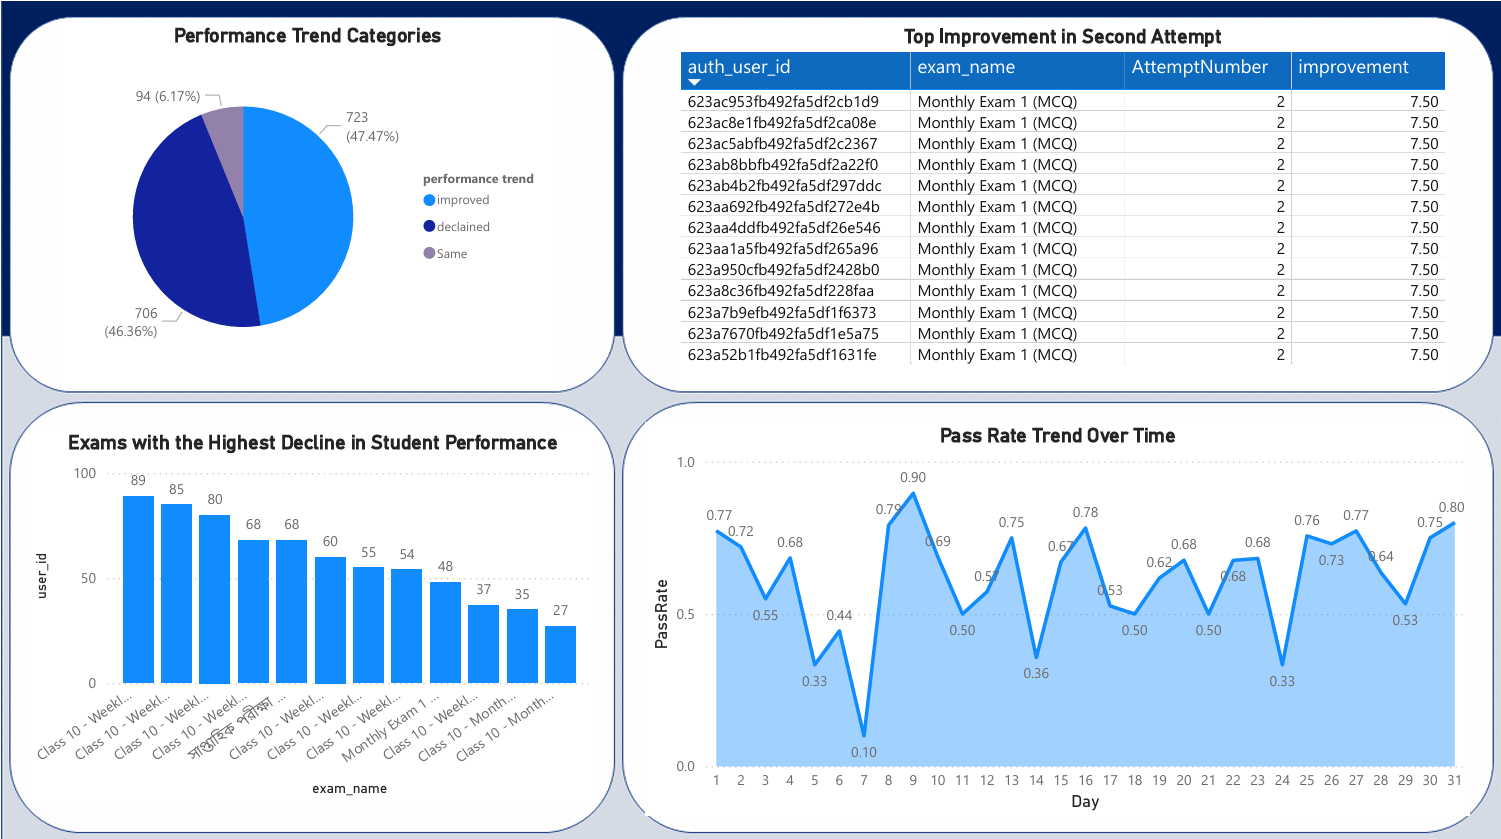

Layout of this report page (visuals, bound fields, positions):
{"tool":"powerbi","page":{"name":"Page 2","canvas":[1280,720],"ordinal":1},"visuals":[{"type":"lineChart","title":"Pass Rate Trend Over Time","fields":{"Category":["Q-2.exam_date.Variation.Date Hierarchy.Day"],"Y":["Q-2.PassRate"]},"box":[549.8,360,704,336.1],"z":0},{"type":"columnChart","title":"Exams with the Highest Decline in Student Performance","fields":{"Category":["Question-4.exam_name"],"Y":["CountNonNull(Question-4.auth_user_id)"]},"box":[23.1,366.2,485.9,316.6],"z":1000},{"type":"pieChart","title":"Performance Trend Categories ","fields":{"Category":["Question-4.performance_trend"],"Y":["CountNonNull(Question-4.auth_user_id)"]},"box":[47.9,18.6,427.4,311.2],"z":2000},{"type":"tableEx","title":"Top Improvement in Second Attempt","fields":{"Values":["Question-4.auth_user_id","Question-4 (2).exam_name","Question-4.AttemptNumber","Question-4 (2).improvement"]},"box":[575.5,19.5,661.5,310.3],"z":3000}]}

Visuals, with their boxes in screenshot pixels (x1, y1, x2, y2), scaled from the page's 1280x720 canvas onto the 1501x839 screenshot:
"Pass Rate Trend Over Time" lineChart: x1=645 y1=420 x2=1470 y2=811
"Exams with the Highest Decline in Student Performance" columnChart: x1=27 y1=427 x2=597 y2=796
"Performance Trend Categories " pieChart: x1=56 y1=22 x2=557 y2=384
"Top Improvement in Second Attempt" tableEx: x1=675 y1=23 x2=1451 y2=384
